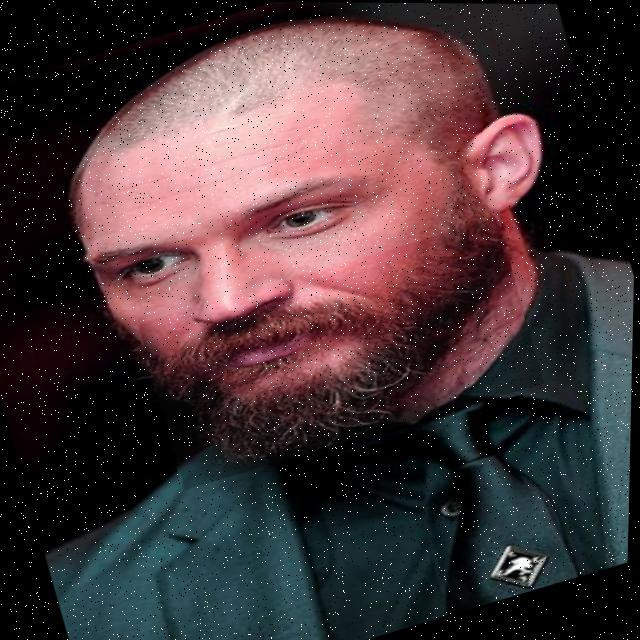beard: (149, 218, 511, 460)
